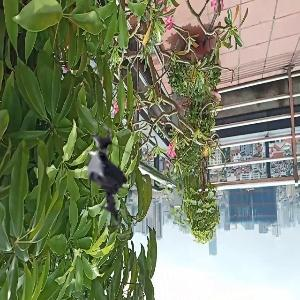drone: (59, 126, 163, 230)
